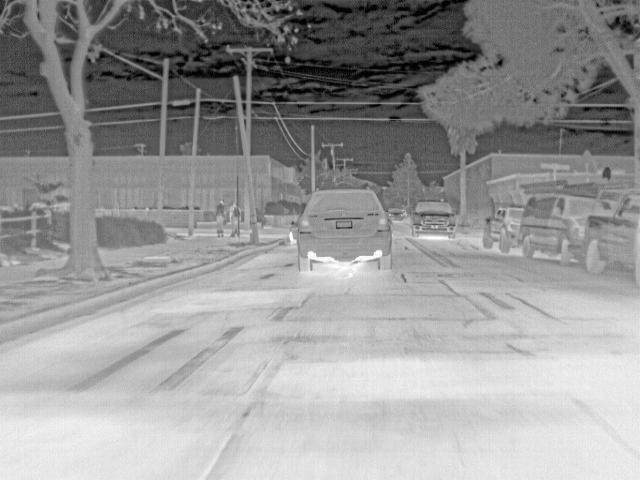car: (294, 186, 392, 272), (521, 190, 616, 264), (584, 187, 640, 287), (481, 206, 524, 254), (408, 198, 456, 239), (287, 218, 299, 246), (388, 206, 407, 222)
person: (228, 199, 244, 239), (214, 198, 227, 239)
